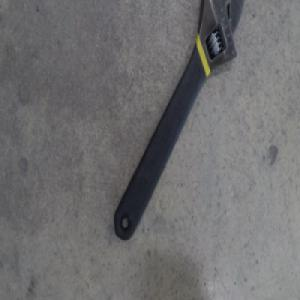AdjustableWrench: (114, 0, 244, 242)
